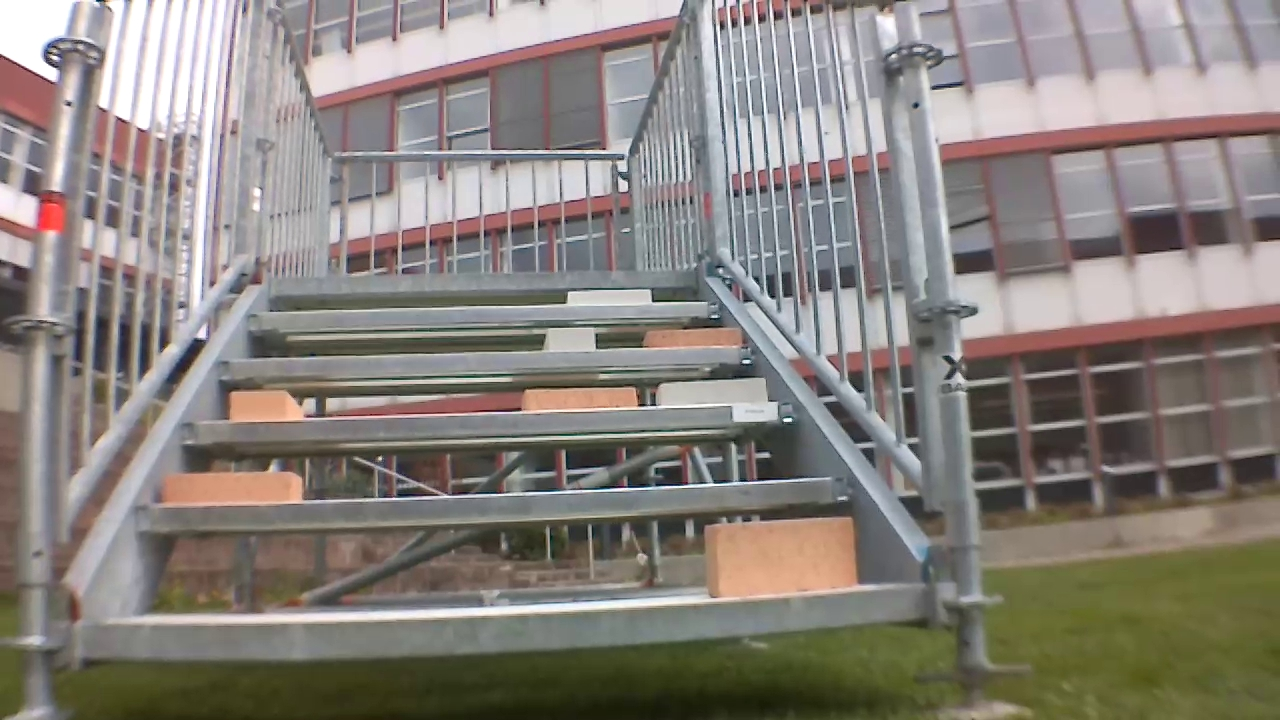brick: (701, 517, 857, 597), (148, 472, 309, 507), (638, 324, 757, 351), (522, 384, 641, 410), (659, 376, 766, 402), (225, 395, 309, 423), (559, 288, 655, 304), (543, 326, 594, 348)
edge: (71, 580, 944, 662), (129, 476, 860, 533), (175, 403, 799, 448), (216, 346, 759, 384), (250, 297, 721, 331), (263, 268, 701, 294)
stairs: (35, 0, 989, 713)
steps: (62, 273, 961, 657)
